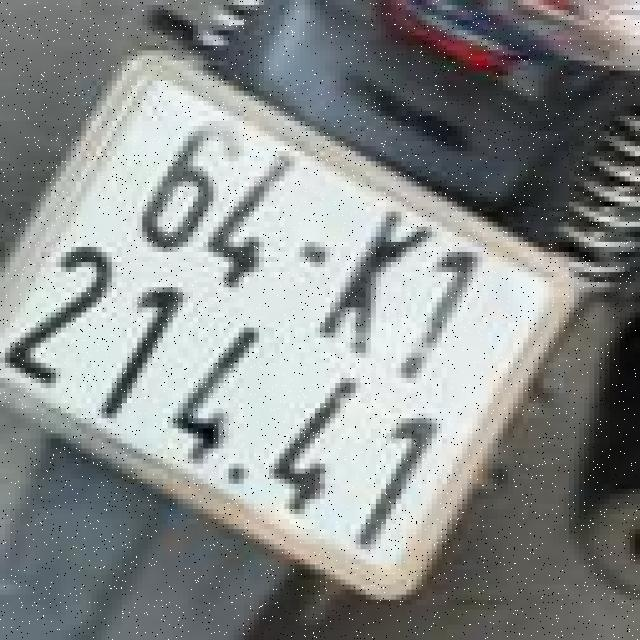1: (340, 394, 463, 569), (78, 270, 200, 434), (385, 234, 499, 396)
2: (0, 229, 142, 401)
4: (253, 360, 392, 531), (189, 137, 329, 301), (160, 310, 291, 470)
6: (124, 108, 260, 257)
K: (311, 193, 454, 367)
